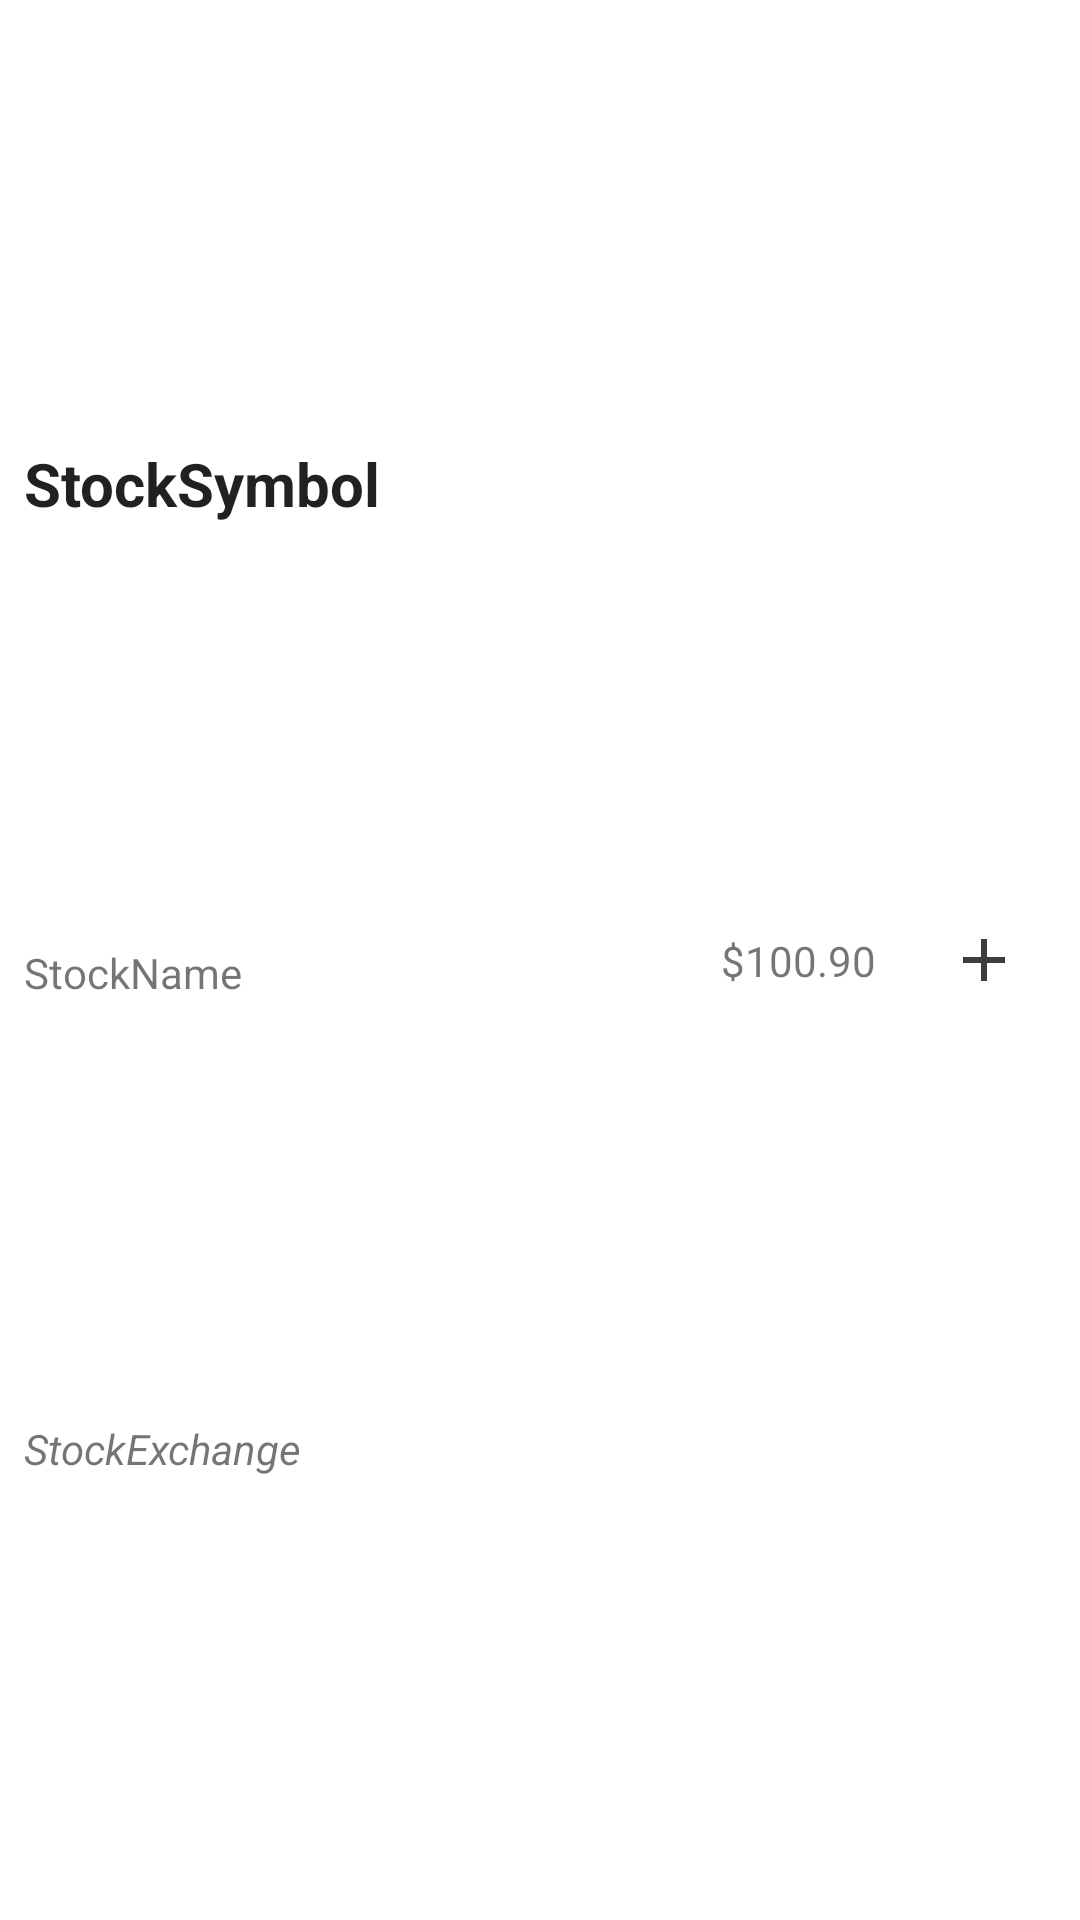

Icon bounding boxes for this 1080×1920 phone screenshot, format (x1=x1, y1=y1, x2=x2, y2=y2):
add: (x1=963, y1=939, x2=1005, y2=981)
